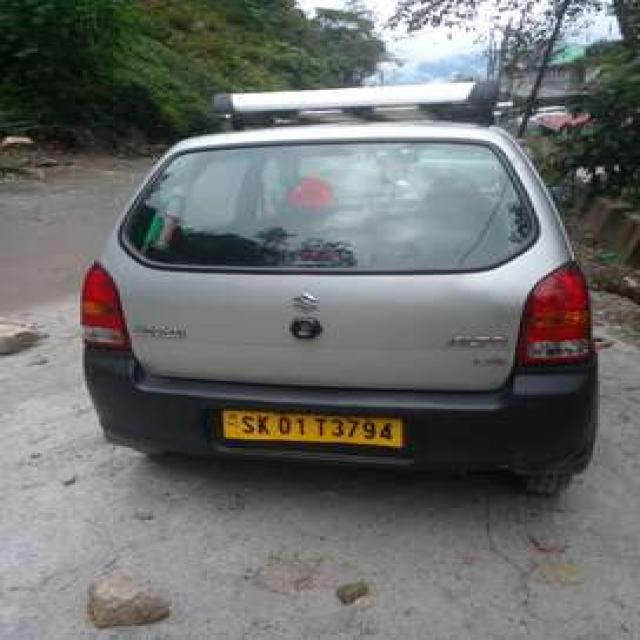Plate: (220, 410, 401, 447)
